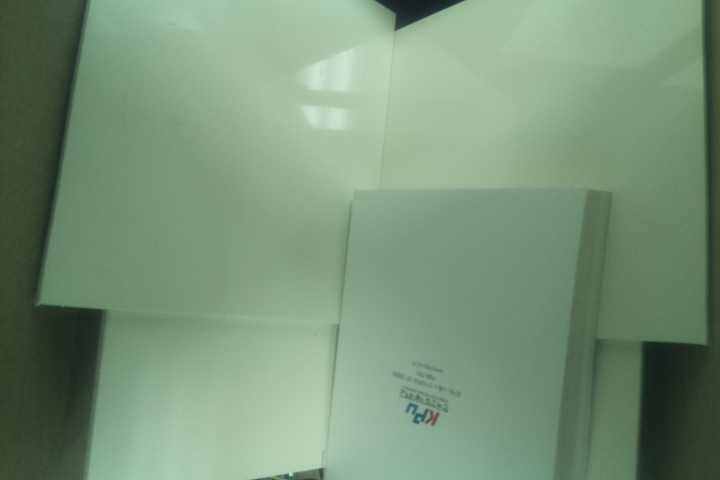book: (316, 182, 614, 480)
